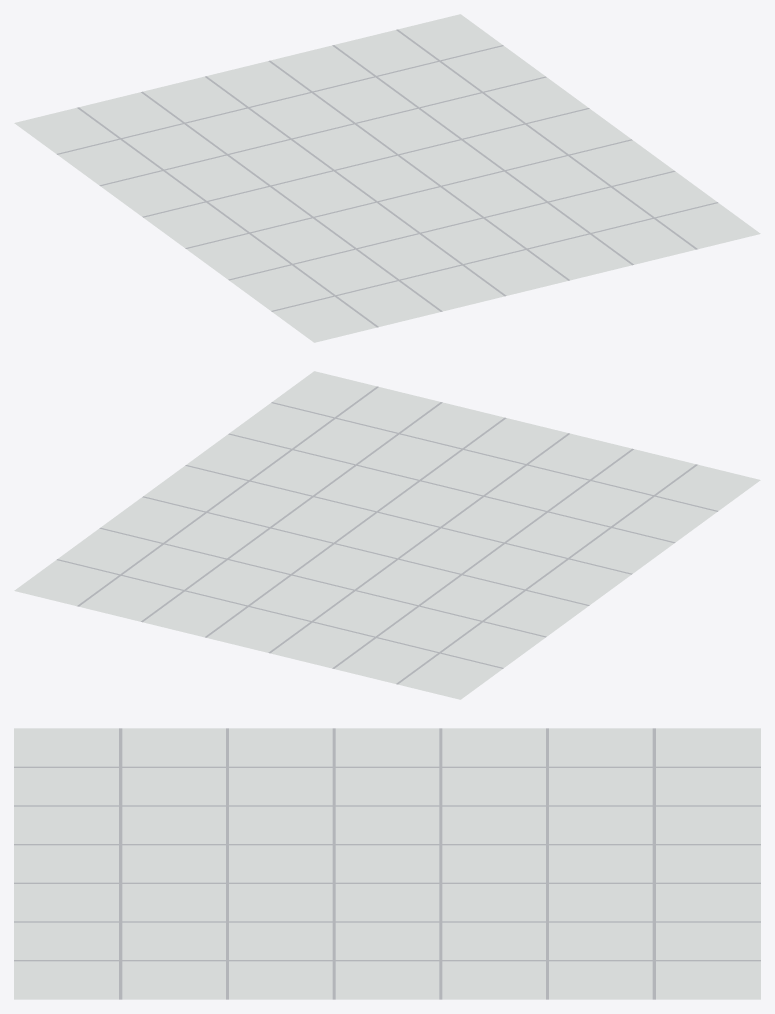
The model's file is Floor.fbx.
The picture shows the model from 3 angles, top to bottom: view 1: azimuth 30°, elevation 25°; view 2: azimuth 150°, elevation 25°; view 3: azimuth 270°, elevation 25°; orthographic projection. The views are drawn at different scales.
Parts seen in each view (by area): view 1: Floor; view 2: Floor; view 3: Floor.
Part boxes in pixels (x1,y1,x2,y2): Floor: (14, 14, 760, 342); Floor: (14, 371, 760, 699); Floor: (14, 728, 760, 999).
Size of the model in its own units: 4.23 by 6.69e-15 by 4.93.
